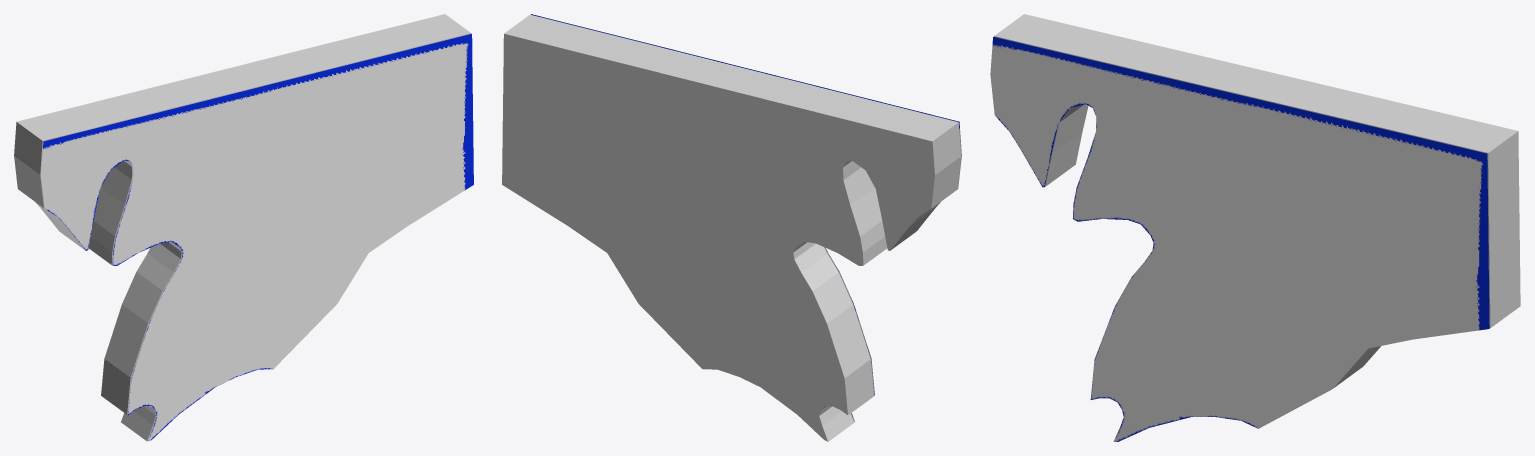
The picture shows the model from 3 angles, left to right: view 1: azimuth 30°, elevation 25°; view 2: azimuth 150°, elevation 25°; view 3: azimuth 330°, elevation 25°; orthographic projection. The views are drawn at different scales.
Visible parts, largest first — view 1: Out_4_1, Out_4_0; view 2: Out_4_0, Out_4_1; view 3: Out_4_1, Out_4_0.
Boxes of the visible parts, box(x1,y1,x2,y2) form: Out_4_1: box(41, 34, 473, 441); Out_4_0: box(14, 14, 471, 441); Out_4_0: box(502, 14, 960, 441); Out_4_1: box(531, 14, 961, 421); Out_4_1: box(990, 37, 1489, 441); Out_4_0: box(994, 14, 1520, 388).
Size of the model in its own units: 4.77 by 3.47 by 0.515.
Materials: 2 (1 with a texture image).
